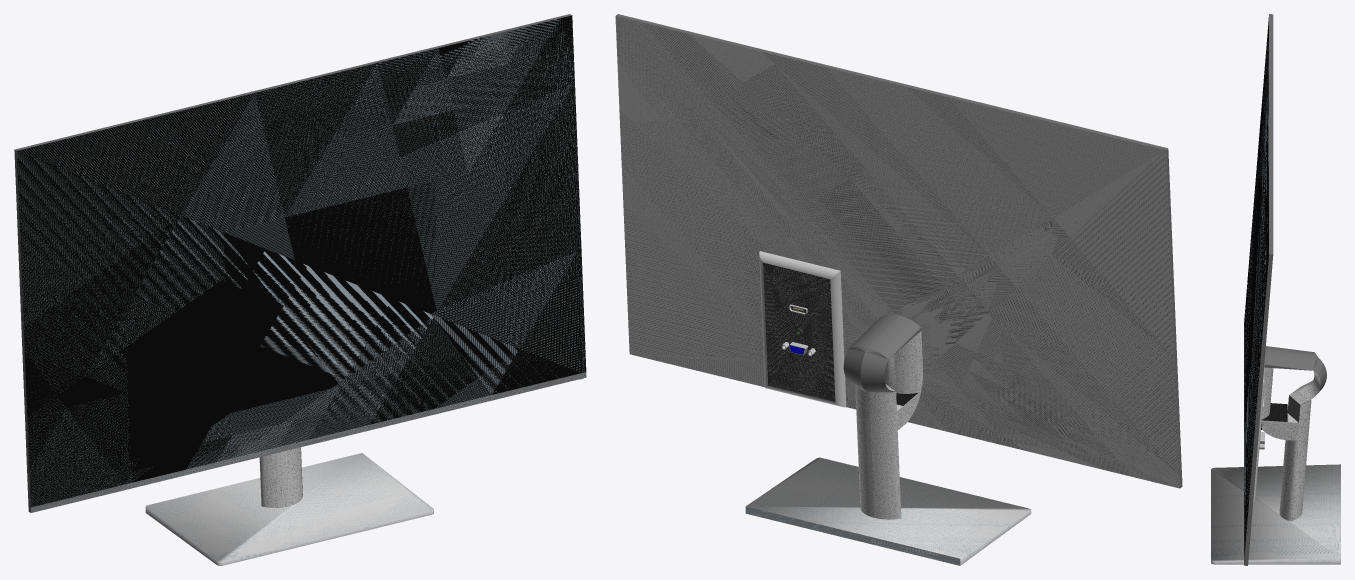
The model's file is 17_+Desktop+LED+Monitor.fbx.
The picture shows the model from 3 angles, left to right: view 1: azimuth 30°, elevation 25°; view 2: azimuth 150°, elevation 25°; view 3: azimuth 270°, elevation 25°; orthographic projection. The views are drawn at different scales.
Visible parts, largest first — view 1: Model; view 2: Model, HDMI_and_VGA___3_5mm_Stereo_Wall_Plate1, Group_28_1; view 3: Model, Group_28_1.
Part boxes in pixels (x1,y1,x2,y2): Model: (14,14,586,565); Model: (615,14,1182,565); HDMI_and_VGA___3_5mm_Stereo_Wall_Plate1: (763,262,835,401); Group_28_1: (759,251,846,407); Model: (1211,14,1340,565); Group_28_1: (1253,363,1264,502).
Size of the model in its own units: 47.25 by 35.27 by 10.79.
